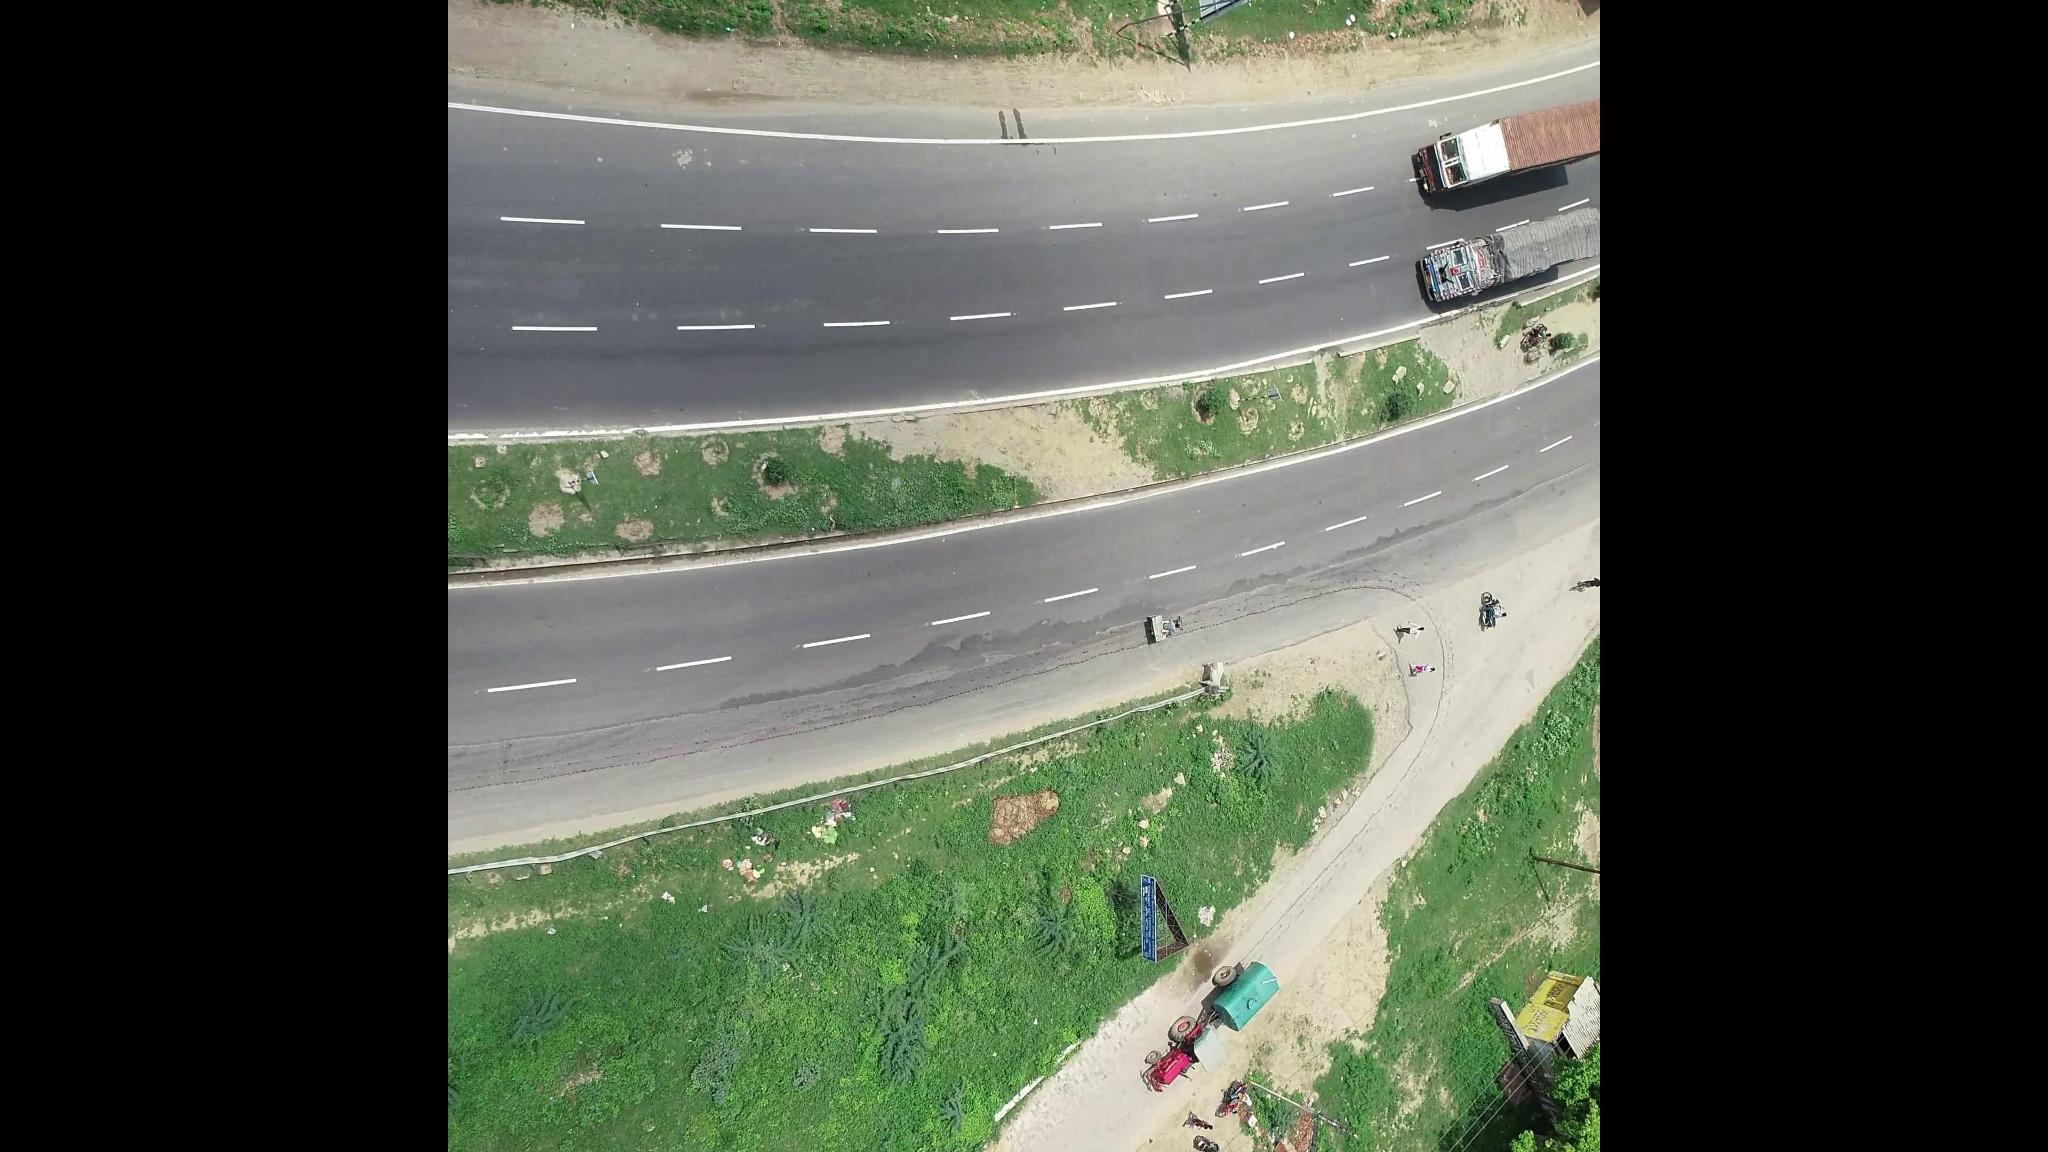Ravelling: (809, 609, 1082, 715), (1207, 513, 1421, 601)
